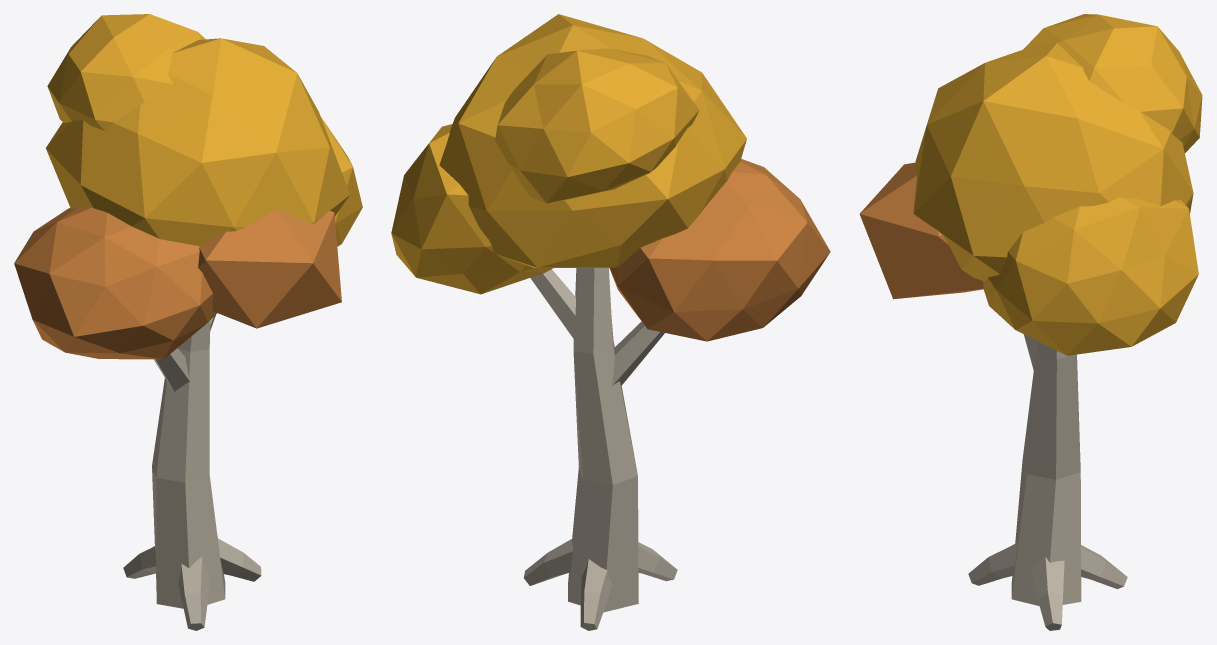
The model's file is Cozy_Tree_Medium_03_GoldenBirch.fbx.
3 views of the same model, side by side, from view 1: azimuth 30°, elevation 25°; view 2: azimuth 150°, elevation 25°; view 3: azimuth 270°, elevation 25° (orthographic). The views are drawn at different scales.
Parts seen in each view (by area): view 1: Cozy_Tree_Medium_03_GoldenBirch; view 2: Cozy_Tree_Medium_03_GoldenBirch; view 3: Cozy_Tree_Medium_03_GoldenBirch.
Boxes of the visible parts, bbox=[...] form: Cozy_Tree_Medium_03_GoldenBirch: bbox=[14, 14, 362, 630]; Cozy_Tree_Medium_03_GoldenBirch: bbox=[391, 14, 830, 630]; Cozy_Tree_Medium_03_GoldenBirch: bbox=[859, 14, 1202, 630].
Bounding box in the file's own units: 2.3 × 3.58 × 1.96.
